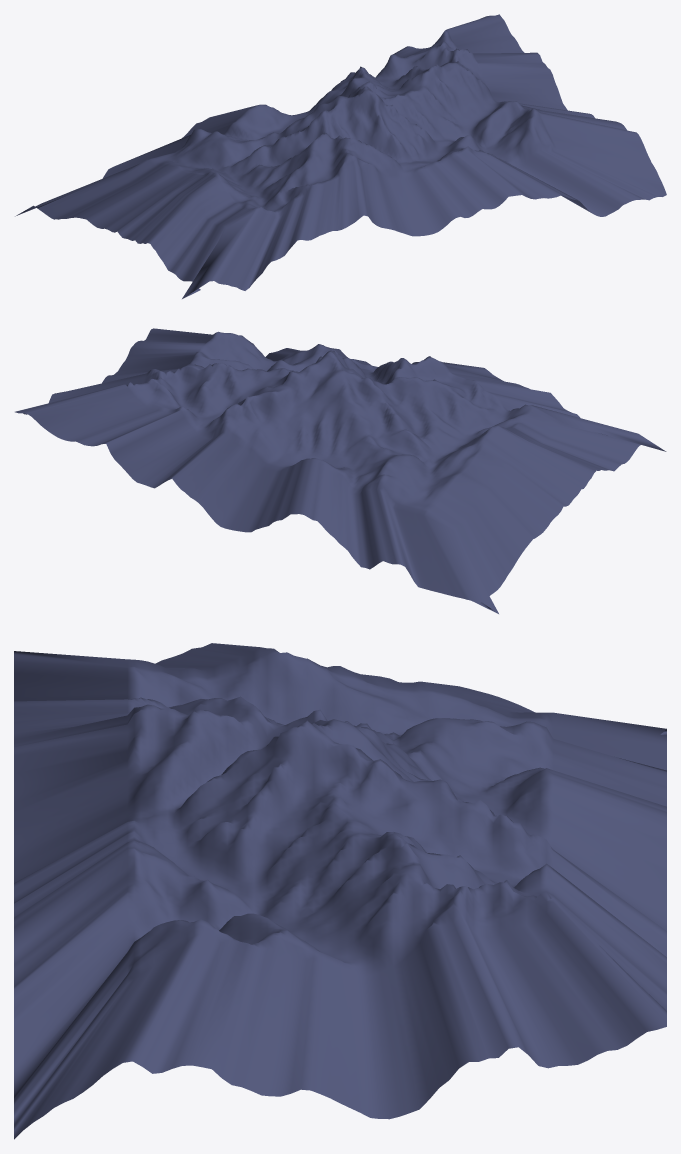
Rendered from Terrain.glb.
3 renders of one model, top to bottom at view 1: azimuth 30°, elevation 25°; view 2: azimuth 150°, elevation 25°; view 3: azimuth 270°, elevation 25°, orthographic. The views are drawn at different scales.
Parts seen in each view (by area): view 1: pPlane2.001; view 2: pPlane2.001; view 3: pPlane2.001.
Part boxes in pixels (x1,y1,x2,y2): pPlane2.001: [15, 14, 666, 298]; pPlane2.001: [15, 328, 666, 613]; pPlane2.001: [14, 643, 666, 1139].
Bounding box in the file's own units: 31.19 × 8.06 × 18.63.
